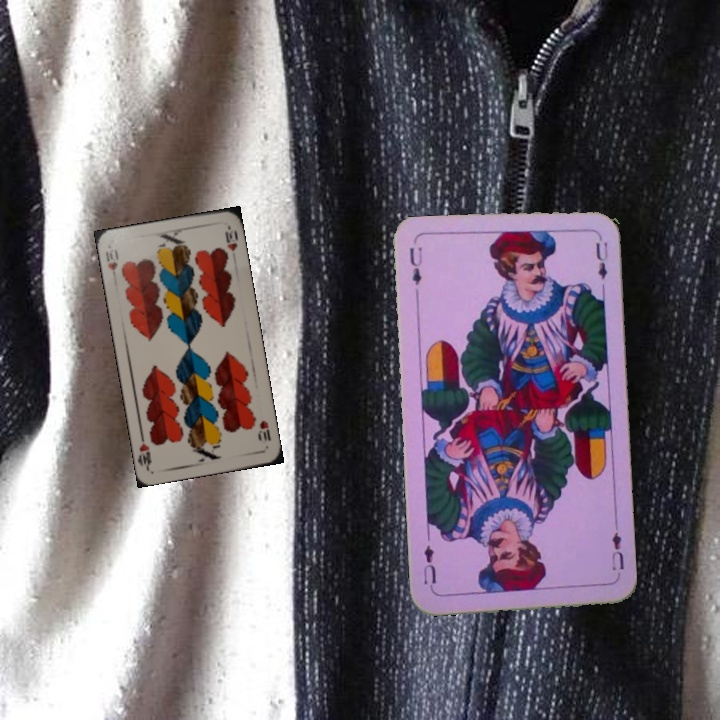EU: (607, 528, 626, 581), (405, 243, 425, 288)
H10: (101, 245, 121, 273), (254, 416, 273, 444)
